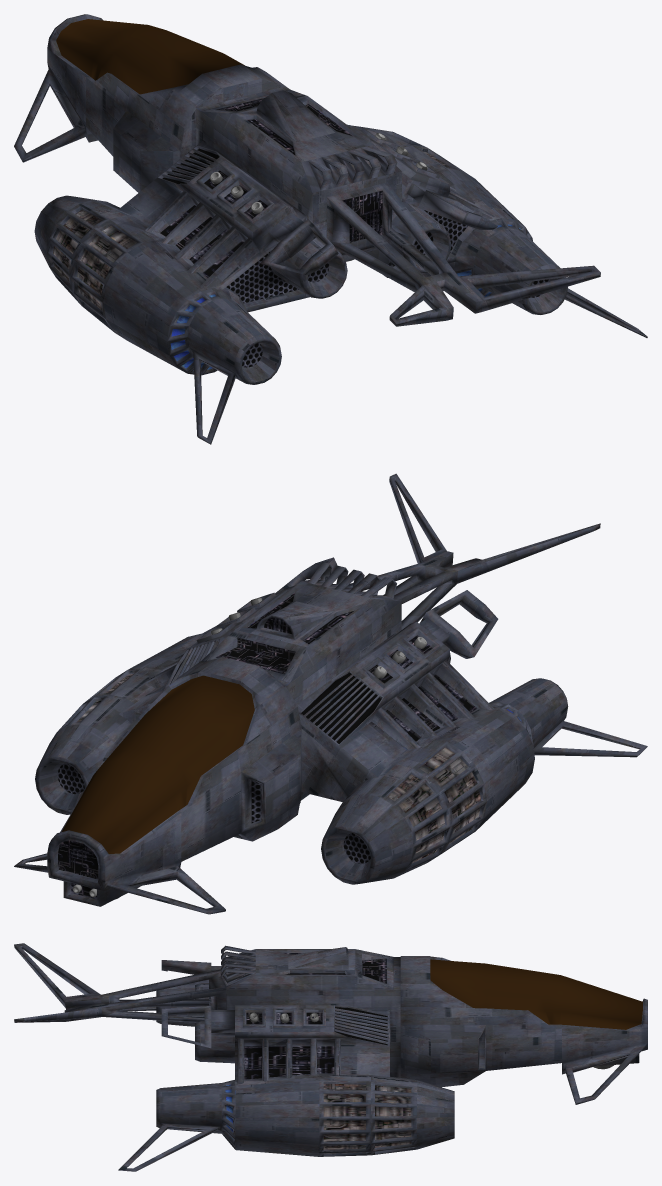
File: kanara.fbx
The picture shows the model from 3 angles, top to bottom: view 1: azimuth 30°, elevation 25°; view 2: azimuth 150°, elevation 25°; view 3: azimuth 270°, elevation 25°; orthographic projection. The views are drawn at different scales.
Parts seen in each view (by area): view 1: U3DMesh; view 2: U3DMesh; view 3: U3DMesh.
Boxes of the visible parts, x1,y1,x2,y2 form: U3DMesh: (14,14,647,444); U3DMesh: (14,473,647,914); U3DMesh: (14,943,647,1171).
Bounding box in the file's own units: 12.6 × 5.51 × 20.92.
Materials: 3 (3 with a texture image).
